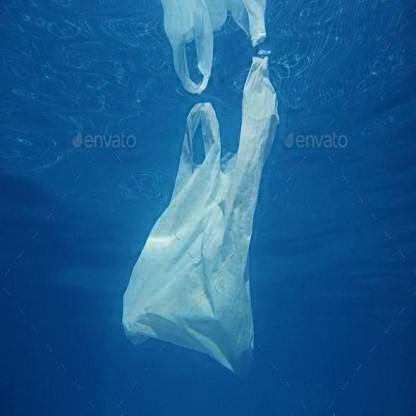pbag: (116, 52, 286, 387)
